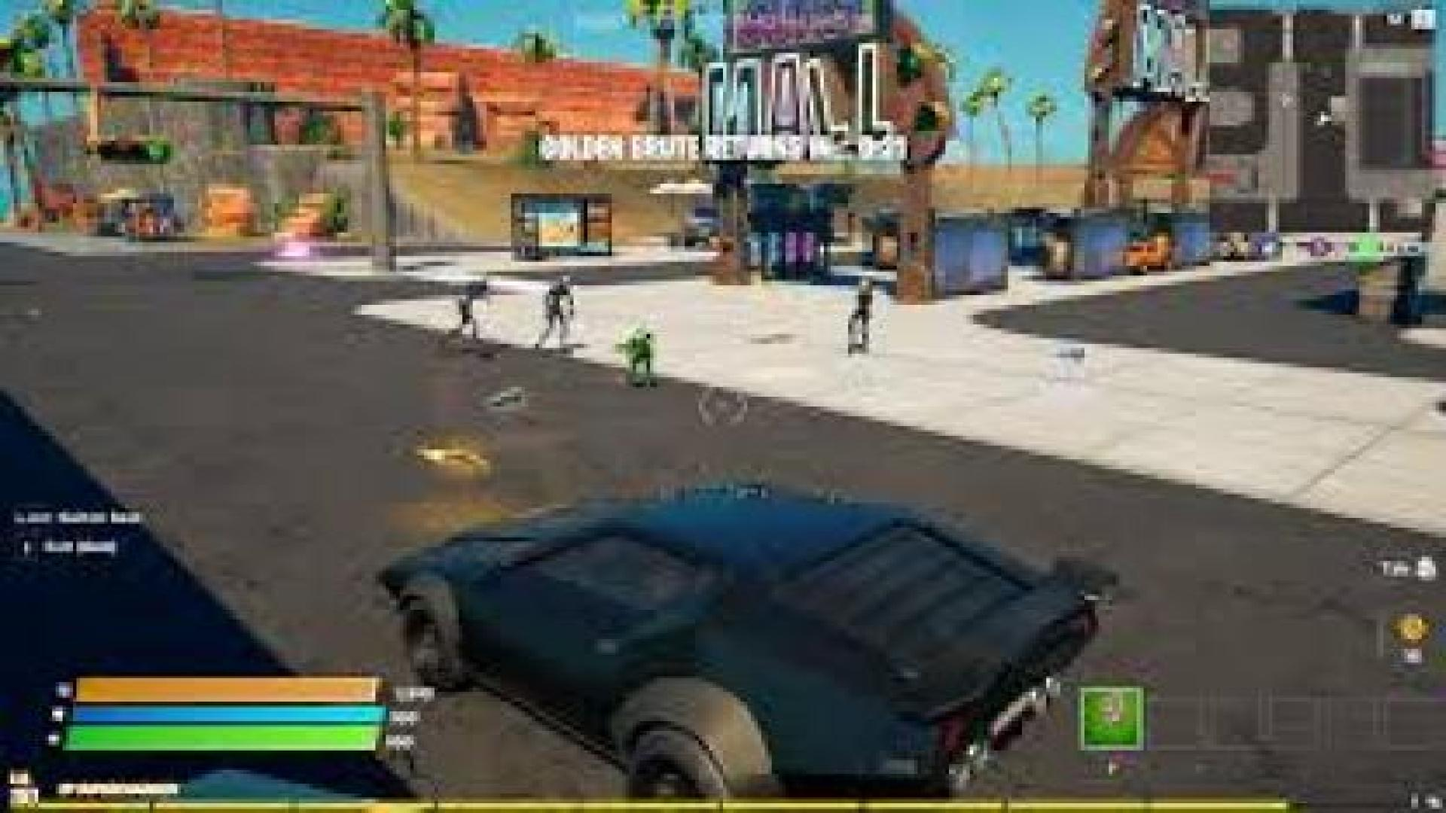player: (841, 272, 883, 358), (622, 324, 660, 397), (457, 275, 492, 347), (549, 279, 574, 363)
